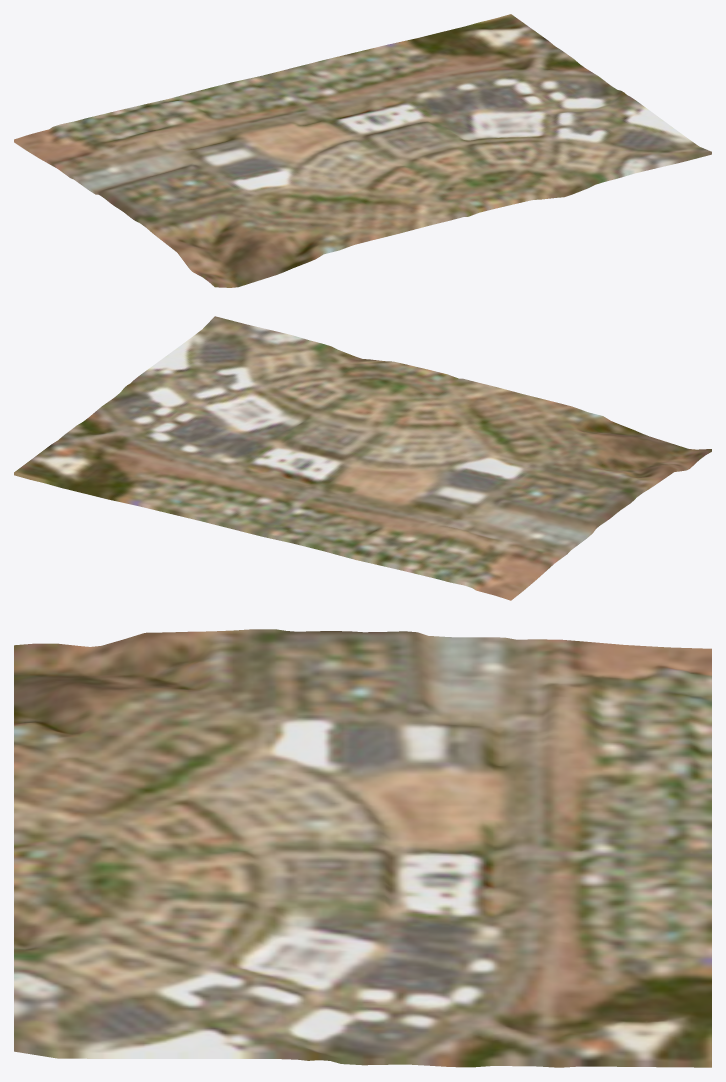
File: terrain_r3_c3_lod1.glb
The picture shows the model from 3 angles, top to bottom: view 1: azimuth 30°, elevation 25°; view 2: azimuth 150°, elevation 25°; view 3: azimuth 270°, elevation 25°; orthographic projection. The views are drawn at different scales.
Visible parts, largest first — view 1: terrain_r3_c3_lod1; view 2: terrain_r3_c3_lod1; view 3: terrain_r3_c3_lod1.
Part boxes in pixels (x1,y1,x2,y2): terrain_r3_c3_lod1: (14,14,711,287); terrain_r3_c3_lod1: (14,316,711,600); terrain_r3_c3_lod1: (14,629,711,1067).
Size of the model in its own units: 1125 by 43.4 by 787.
Materials: 1 (1 with a texture image).
